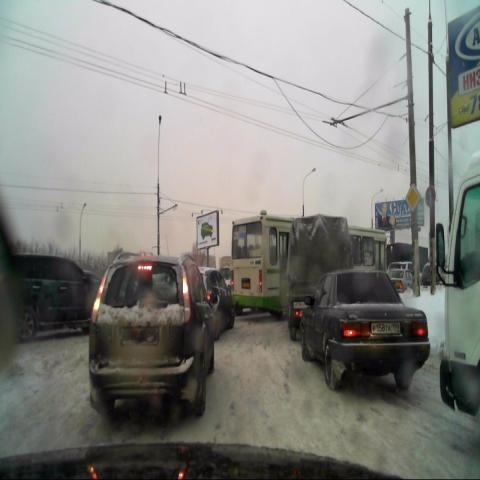2_1: (405, 182, 421, 213)
3_29: (424, 186, 436, 209)
